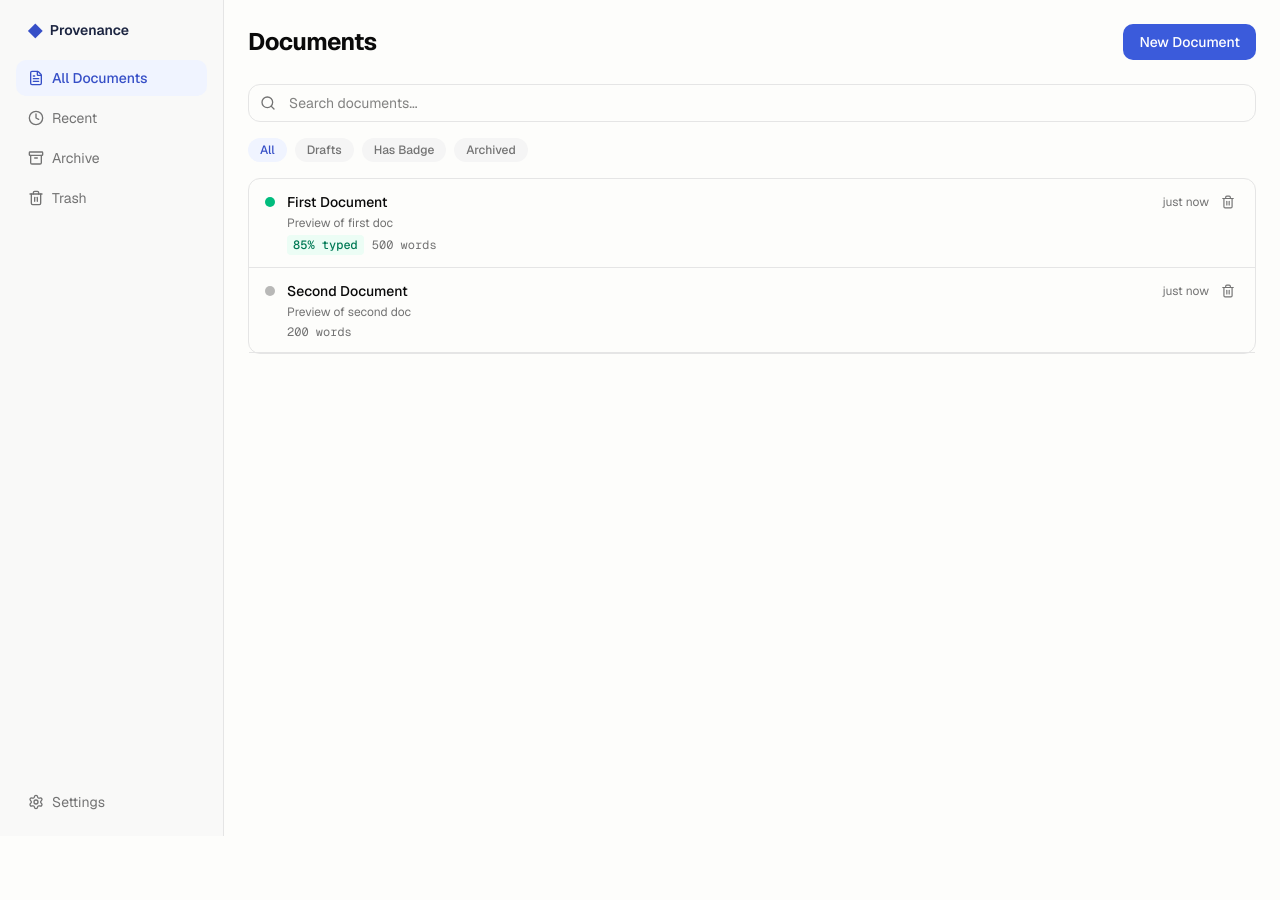
DashboardContent › should filter by 'Has Badge' chip
Click the button "Has Badge" at (404,150), box [362,138,446,162]
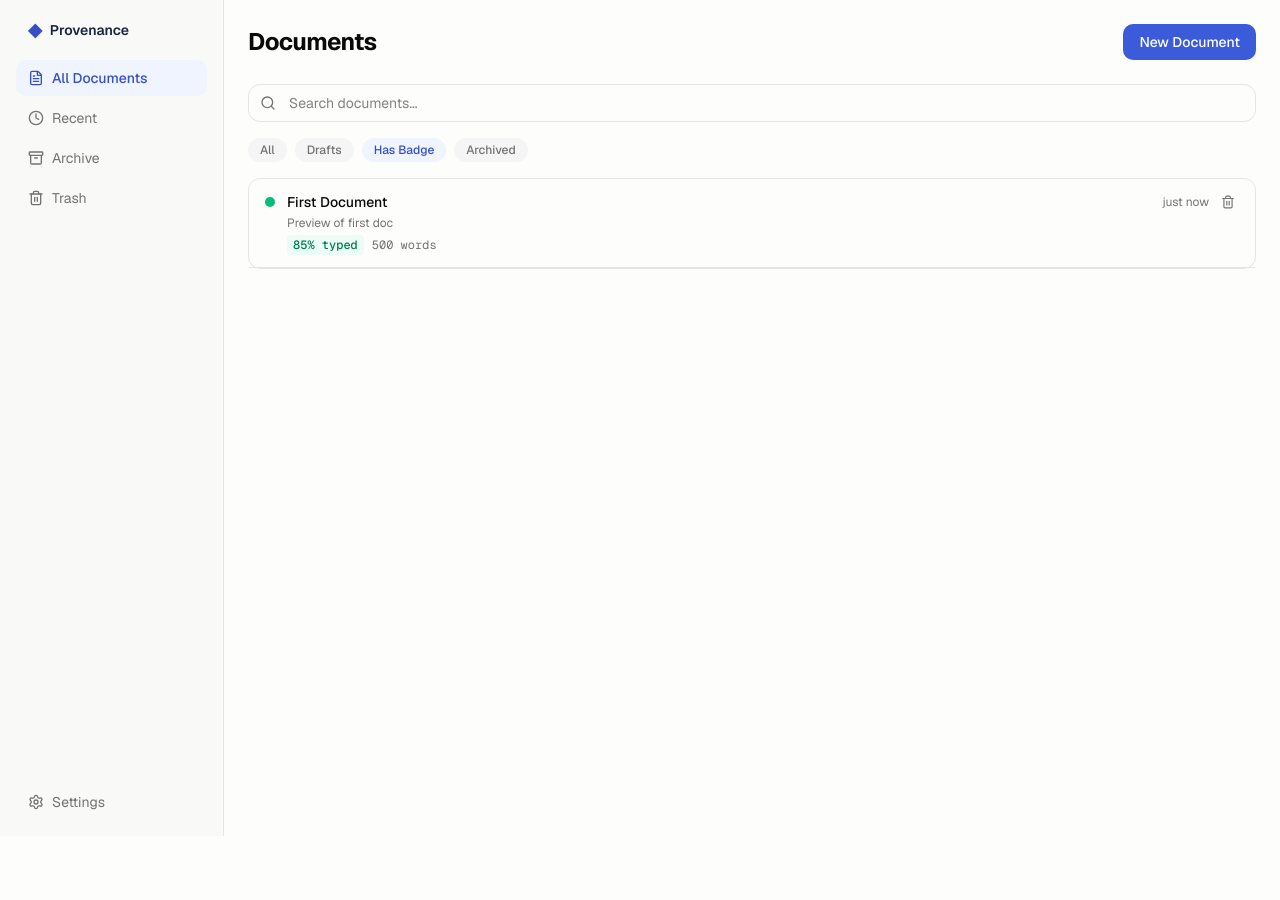
Check: the text "First Document" is shown, box [287,192,388,212]
Check: the button "Second Document" is gone
